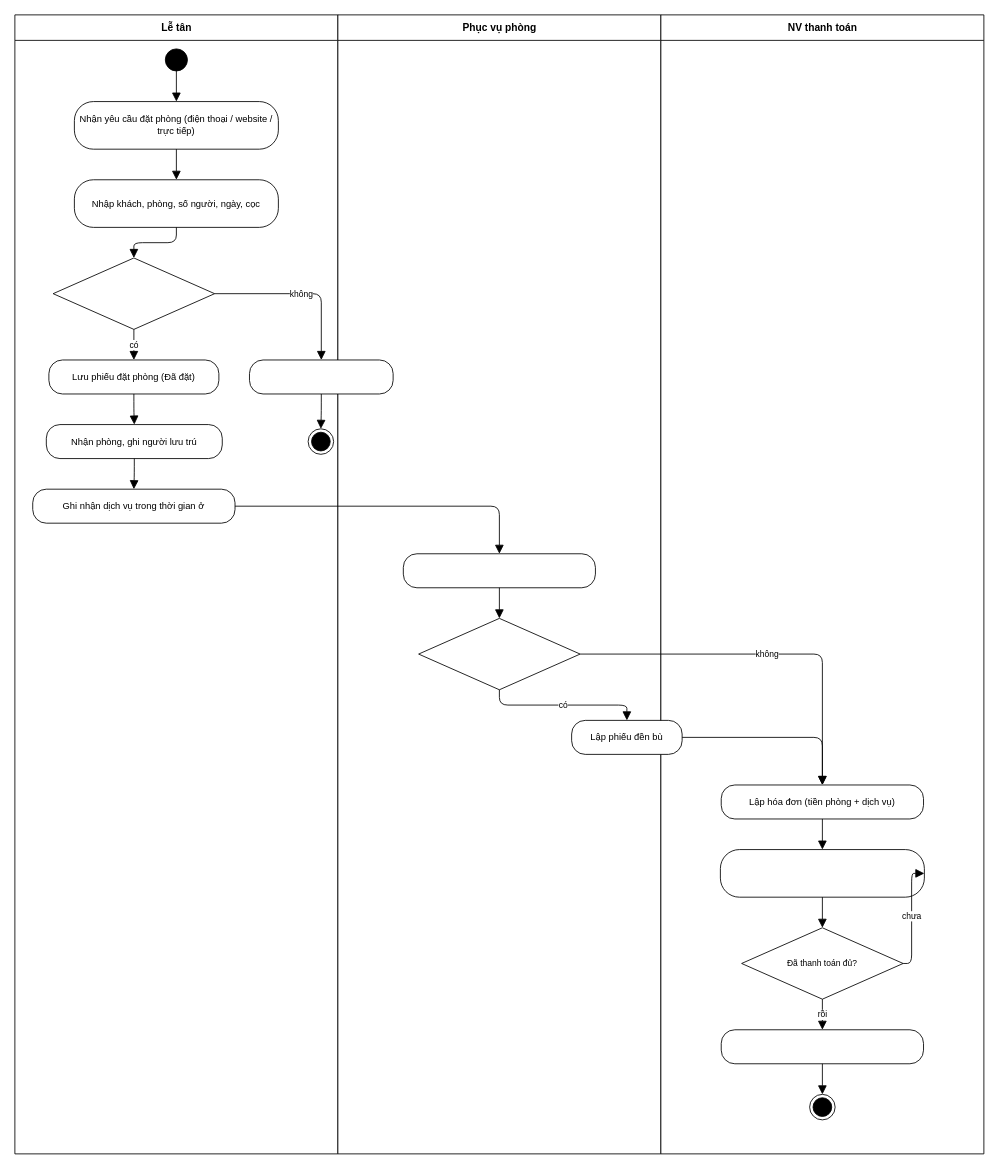
The diagram is 999 pixels wide and 1169 high, and some of its shapes have lost their labels. Each missing label, with the centre of its shape:
"Có hư hỏng / mất mát?" goes at (499,654).
"Ghi nhận thanh toán (nhiều hình thức)" goes at (822,873).
"Hoàn tất trả phòng, phòng về Trống" goes at (822,1046).
"Kiểm tra tiện nghi khi trả phòng" goes at (498,570).
"Từ chối phiếu, rollback" goes at (321,376).
"Đủ sức chứa và không trùng lịch?" goes at (133,293).
